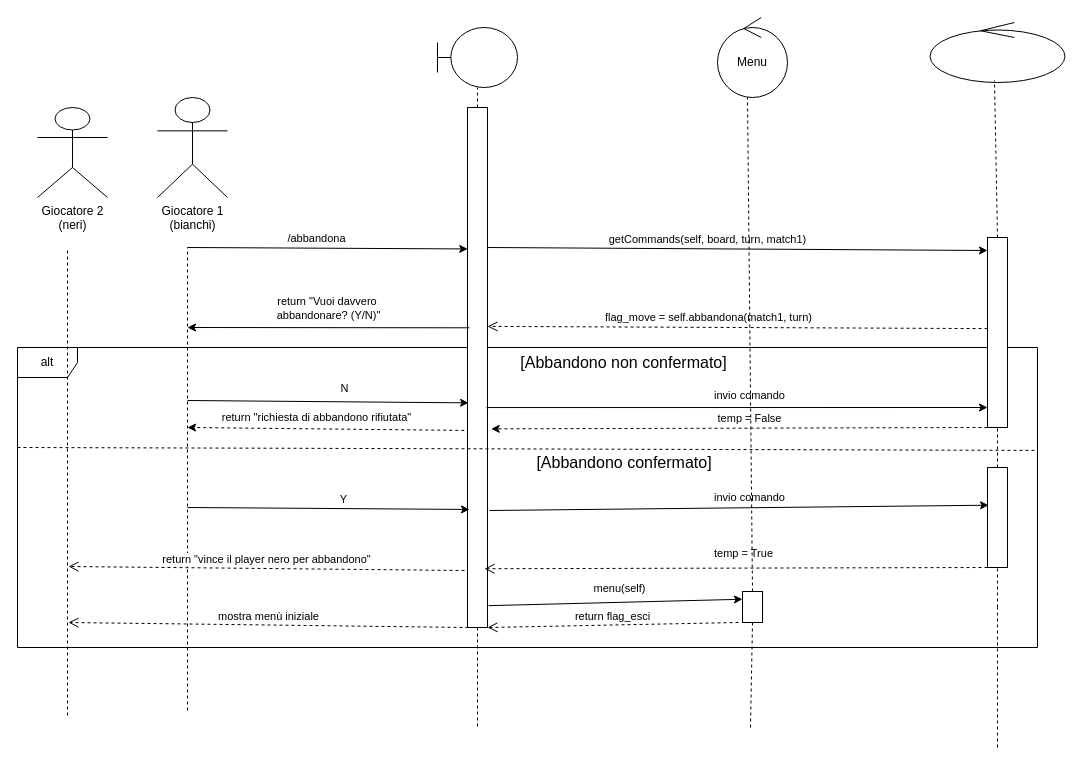
This 1083x766 diagram has some shape labels left out. The shapes that lost their labels are listed below. From the top down, each one's centre as x and y in pixels, then its label:
At (477,57): "UIManager".
At (997,52): "getCommands_Menu".
